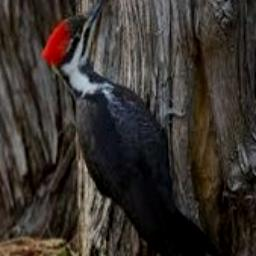Woodpecker: (39, 0, 229, 256)
